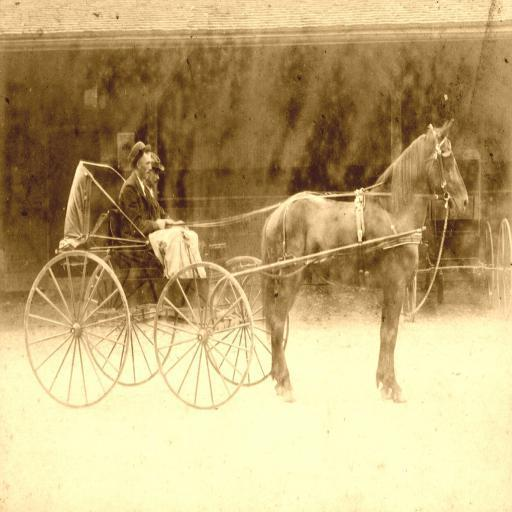horse: (261, 118, 469, 404)
